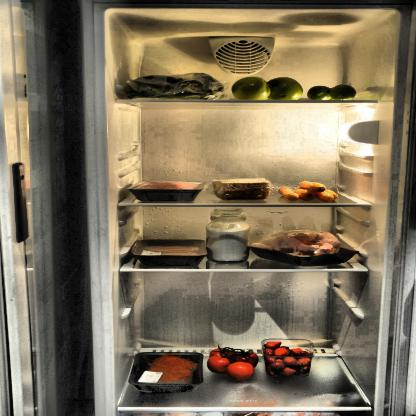apple: (227, 74, 305, 102)
beef: (141, 354, 197, 386)
carrot: (275, 179, 339, 204)
chicken: (256, 226, 344, 266), (134, 239, 204, 264)
ground_beef: (129, 176, 202, 203)
lime: (308, 85, 356, 101)
potato: (211, 180, 273, 202)
spinach: (113, 71, 228, 101)
strawberries: (261, 338, 314, 379)
tomato: (207, 344, 259, 381)
